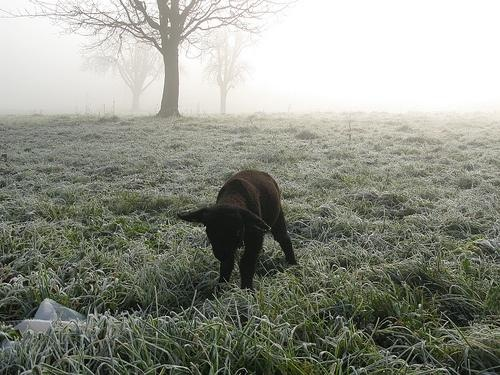sheep: (177, 169, 298, 289)
